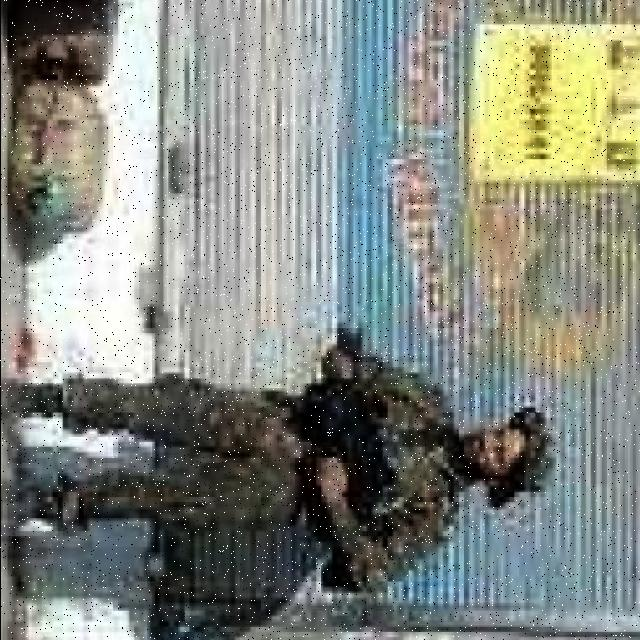Rifle: (307, 353, 401, 530), (285, 456, 362, 591)
